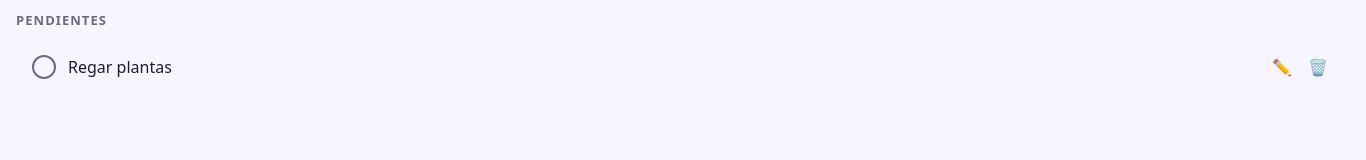
it: TaskRow (rendered through TaskList like production) › inline edit › cancels on Escape without saving
Click the button named "Editar Regar plantas" at x=1282, y=66, box [1266,50,1298,82]
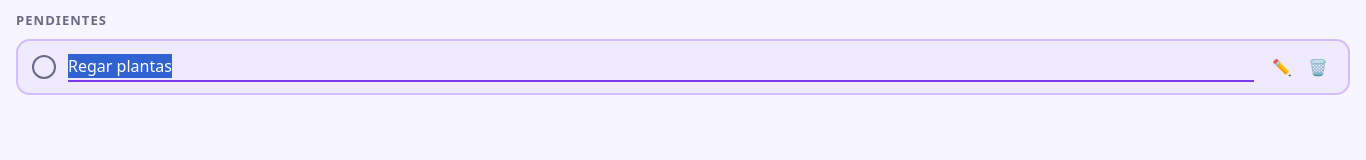
Replace the text in the field named "Editar tarea" with "Cambio" at x=661, y=66, box [68,52,1254,82]
Then press Escape
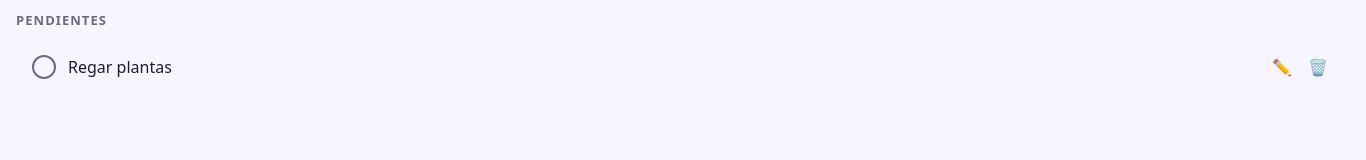
Expected: the button "Regar plantas" is shown, [68,54,1254,78]
